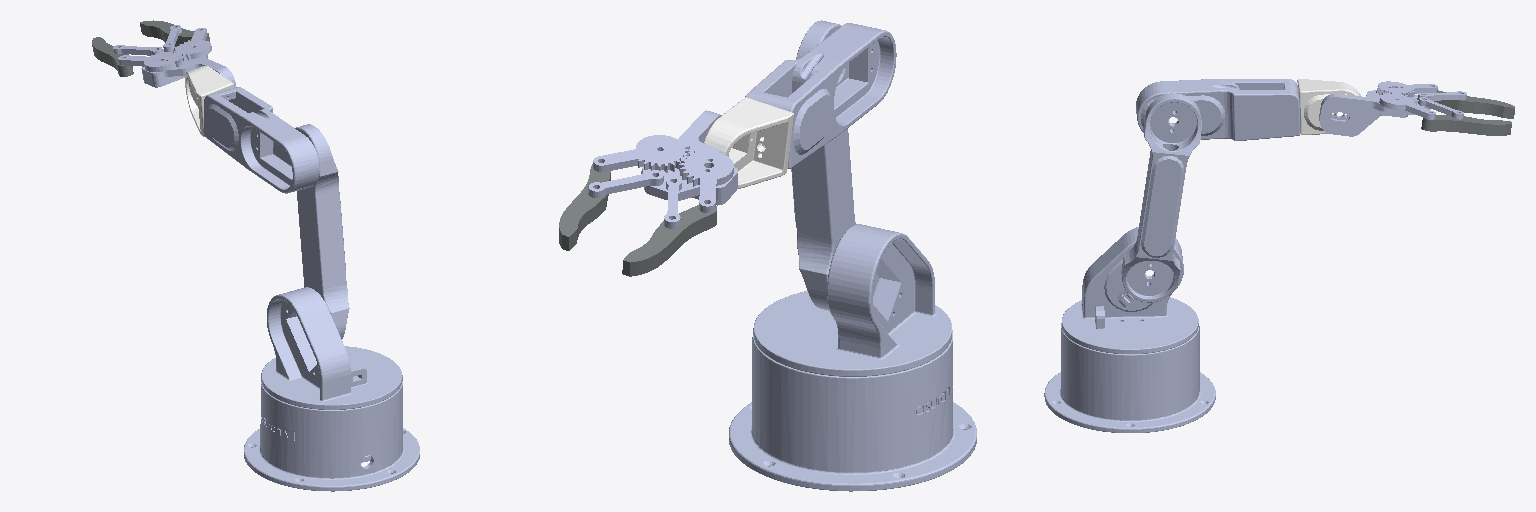
--- What the picture shows (computed from the rendered views, not written in the file) ---
Views: 3 orthographic renders of the robot side by side, from view 1: azimuth 30°, elevation 25°; view 2: azimuth 150°, elevation 25°; view 3: azimuth 270°, elevation 25°.
Robot: manipulator_mobile_bringup — 17 links, 16 joints (7 revolute, 8 continuous, 1 fixed); root link base_link; default pose: every joint at zero.
Visible links, largest first — view 1: arm_base_link, link_1, link_3, link_2, link_4, gripper_base_link, left_gear_link, right_gear_link, right_finger_link, left_finger_link; view 2: arm_base_link, link_1, link_3, link_2, link_4, left_finger_link, right_gear_link, gripper_base_link, left_gear_link, right_finger_link, right_link, left_link; view 3: arm_base_link, link_2, link_1, link_3, gripper_base_link, link_4, right_finger_link, left_finger_link, right_gear_link, left_gear_link.
Boxes of the visible links, x1=… form: arm_base_link: x1=244, y1=381, x2=419, y2=491; link_1: x1=261, y1=287, x2=402, y2=409; link_3: x1=204, y1=87, x2=319, y2=193; link_2: x1=295, y1=124, x2=349, y2=338; link_4: x1=185, y1=66, x2=233, y2=136; gripper_base_link: x1=141, y1=47, x2=235, y2=87; left_gear_link: x1=118, y1=52, x2=182, y2=71; right_gear_link: x1=173, y1=28, x2=211, y2=60; right_finger_link: x1=140, y1=20, x2=209, y2=46; left_finger_link: x1=92, y1=37, x2=133, y2=76; arm_base_link: x1=729, y1=330, x2=976, y2=491; link_1: x1=753, y1=224, x2=951, y2=376; link_3: x1=745, y1=23, x2=896, y2=168; link_2: x1=791, y1=20, x2=855, y2=310; link_4: x1=703, y1=97, x2=793, y2=188; left_finger_link: x1=622, y1=205, x2=716, y2=276; right_gear_link: x1=593, y1=135, x2=689, y2=172; gripper_base_link: x1=641, y1=110, x2=737, y2=205; left_gear_link: x1=679, y1=148, x2=733, y2=212; right_finger_link: x1=559, y1=164, x2=610, y2=250; right_link: x1=588, y1=170, x2=663, y2=197; left_link: x1=664, y1=176, x2=681, y2=228; arm_base_link: x1=1044, y1=323, x2=1215, y2=432; link_2: x1=1117, y1=93, x2=1201, y2=306; link_1: x1=1062, y1=227, x2=1198, y2=353; link_3: x1=1136, y1=79, x2=1299, y2=140; gripper_base_link: x1=1319, y1=90, x2=1429, y2=136; link_4: x1=1297, y1=79, x2=1361, y2=134; right_finger_link: x1=1421, y1=115, x2=1511, y2=135; left_finger_link: x1=1434, y1=90, x2=1514, y2=118; right_gear_link: x1=1379, y1=92, x2=1435, y2=119; left_gear_link: x1=1376, y1=81, x2=1437, y2=96.
Size in the robot's own frame: 0.1213 by 0.3331 by 0.2354 metres.
Meshes: 17 distinct files referenced, 12 mesh visuals loaded (12 binary STL); not drawn: 5 (reference not matched to a file when rendering).

robot.urdf — manipulator_mobile_bringup:
<?xml version="1.0" encoding="utf-8"?>
<!-- This URDF was automatically created by SolidWorks to URDF Exporter! Originally created by Stephen Brawner ([email redacted]) 
     Commit Version: 1.6.0-4-g7f85cfe  Build Version: 1.6.7995.38578
     For more information, please see http://wiki.ros.org/sw_urdf_exporter -->
<robot
  name="manipulator_mobile_bringup">
  <link
    name="base_link">
    <inertial>
      <origin
        xyz="0.010937 0.08215 -0.053701"
        rpy="0 0 0" />
      <mass
        value="0.98856" />
      <inertia
        ixx="0.0037178"
        ixy="-1.8329E-07"
        ixz="8.2161E-07"
        iyy="0.0054305"
        iyz="2.2764E-06"
        izz="0.0018727" />
    </inertial>
    <visual>
      <origin
        xyz="0 0 0"
        rpy="0 0 0" />
      <geometry>
        <mesh
          filename="package://mobile_manipulator_bringup/meshes/base_link.STL" />
      </geometry>
      <material
        name="">
        <color
          rgba="0.75294 0.75294 0.75294 1" />
      </material>
    </visual>
    <collision>
      <origin
        xyz="0 0 0"
        rpy="0 0 0" />
      <geometry>
        <mesh
          filename="package://mobile_manipulator_bringup/meshes/base_link.STL" />
      </geometry>
    </collision>
  </link>
  <link
    name="front_right_link">
    <inertial>
      <origin
        xyz="1.6167E-05 0.0002524 0.01609"
        rpy="0 0 0" />
      <mass
        value="0.10753" />
      <inertia
        ixx="6.0298E-05"
        ixy="2.1258E-10"
        ixz="-7.2908E-11"
        iyy="6.0303E-05"
        iyz="8.3565E-07"
        izz="0.00010816" />
    </inertial>
    <visual>
      <origin
        xyz="0 0 0"
        rpy="0 0 0" />
      <geometry>
        <mesh
          filename="package://mobile_manipulator_bringup/meshes/front_right_link.STL" />
      </geometry>
      <material
        name="">
        <color
          rgba="0.75294 0.75294 0.75294 1" />
      </material>
    </visual>
    <collision>
      <origin
        xyz="0 0 0"
        rpy="0 0 0" />
      <geometry>
        <mesh
          filename="package://mobile_manipulator_bringup/meshes/front_right_link.STL" />
      </geometry>
    </collision>
  </link>
  <joint
    name="front_right_joint"
    type="continuous">
    <origin
      xyz="0.139571380499661 0.149302895205618 0.0161064867963429"
      rpy="1.58824961931488 0 1.5707963267949" />
    <parent
      link="base_link" />
    <child
      link="front_right_link" />
    <axis
      xyz="0 0.017452406437321 0.99984769515639" />
    <limit
      effort="10"
      velocity="10" />
    <dynamics
      damping="0.1"
      friction="0.1" />
  </joint>
  <link
    name="front_left_link">
    <inertial>
      <origin
        xyz="1.6167E-05 0.00030928 -0.016089"
        rpy="0 0 0" />
      <mass
        value="0.10753" />
      <inertia
        ixx="6.0298E-05"
        ixy="-2.15E-10"
        ixz="6.5444E-11"
        iyy="6.0303E-05"
        iyz="-8.3565E-07"
        izz="0.00010816" />
    </inertial>
    <visual>
      <origin
        xyz="0 0 0"
        rpy="0 0 0" />
      <geometry>
        <mesh
          filename="package://mobile_manipulator_bringup/meshes/front_left_link.STL" />
      </geometry>
      <material
        name="">
        <color
          rgba="0.75294 0.75294 0.75294 1" />
      </material>
    </visual>
    <collision>
      <origin
        xyz="0 0 0"
        rpy="0 0 0" />
      <geometry>
        <mesh
          filename="package://mobile_manipulator_bringup/meshes/front_left_link.STL" />
      </geometry>
    </collision>
  </link>
  <joint
    name="front_left_joint"
    type="continuous">
    <origin
      xyz="-0.117093473270303 0.149302895064799 0.0161064867963391"
      rpy="-1.58824961931486 0 -1.5707963267949" />
    <parent
      link="base_link" />
    <child
      link="front_left_link" />
    <axis
      xyz="0 0.0174524064372968 -0.999847695156391" />
    <limit
      effort="10"
      velocity="10" />
    <dynamics
      damping="0.1"
      friction="0.1" />
  </joint>
  <link
    name="back_right_link">
    <inertial>
      <origin
        xyz="1.6167E-05 0.0002524 0.01609"
        rpy="0 0 0" />
      <mass
        value="0.10753" />
      <inertia
        ixx="6.0298E-05"
        ixy="2.1258E-10"
        ixz="-7.2908E-11"
        iyy="6.0303E-05"
        iyz="8.3565E-07"
        izz="0.00010816" />
    </inertial>
    <visual>
      <origin
        xyz="0 0 0"
        rpy="0 0 0" />
      <geometry>
        <mesh
          filename="package://mobile_manipulator_bringup/meshes/back_right_link.STL" />
      </geometry>
      <material
        name="">
        <color
          rgba="0.75294 0.75294 0.75294 1" />
      </material>
    </visual>
    <collision>
      <origin
        xyz="0 0 0"
        rpy="0 0 0" />
      <geometry>
        <mesh
          filename="package://mobile_manipulator_bringup/meshes/back_right_link.STL" />
      </geometry>
    </collision>
  </link>
  <joint
    name="back_right_joint"
    type="continuous">
    <origin
      xyz="0.139571380499664 -0.0356971047943816 0.0161064867963398"
      rpy="1.58824961931488 0 1.5707963267949" />
    <parent
      link="base_link" />
    <child
      link="back_right_link" />
    <axis
      xyz="0 0.0174524064373385 0.99984769515639" />
    <limit
      effort="10"
      velocity="10" />
    <dynamics
      damping="0.1"
      friction="0.1" />
  </joint>
  <link
    name="back_left_link">
    <inertial>
      <origin
        xyz="1.6167E-05 0.00030928 -0.016089"
        rpy="0 0 0" />
      <mass
        value="0.10753" />
      <inertia
        ixx="6.0298E-05"
        ixy="-2.15E-10"
        ixz="6.5444E-11"
        iyy="6.0303E-05"
        iyz="-8.3565E-07"
        izz="0.00010816" />
    </inertial>
    <visual>
      <origin
        xyz="0 0 0"
        rpy="0 0 0" />
      <geometry>
        <mesh
          filename="package://mobile_manipulator_bringup/meshes/back_left_link.STL" />
      </geometry>
      <material
        name="">
        <color
          rgba="0.75294 0.75294 0.75294 1" />
      </material>
    </visual>
    <collision>
      <origin
        xyz="0 0 0"
        rpy="0 0 0" />
      <geometry>
        <mesh
          filename="package://mobile_manipulator_bringup/meshes/back_left_link.STL" />
      </geometry>
    </collision>
  </link>
  <joint
    name="back_left_joint"
    type="continuous">
    <origin
      xyz="-0.117093473270303 -0.0356971049352009 0.0161064867963398"
      rpy="-1.58824961931486 0 -1.5707963267949" />
    <parent
      link="base_link" />
    <child
      link="back_left_link" />
    <axis
      xyz="0 0.0174524064372968 -0.999847695156391" />
    <limit
      effort="10"
      velocity="10" />
    <dynamics
      damping="0.1"
      friction="0.1" />
  </joint>
  <link
    name="arm_base_link">
    <inertial>
      <origin
        xyz="-0.0011337 -0.0001156 -0.021927"
        rpy="0 0 0" />
      <mass
        value="0.093638" />
      <inertia
        ixx="0.00012547"
        ixy="2.5159E-08"
        ixz="-1.5661E-06"
        iyy="0.00013089"
        iyz="-1.4418E-07"
        izz="0.00020147" />
    </inertial>
    <visual>
      <origin
        xyz="0 0 0"
        rpy="0 0 0" />
      <geometry>
        <mesh
          filename="package://mobile_manipulator_bringup/meshes/arm_base_link.STL" />
      </geometry>
      <material
        name="">
        <color
          rgba="0.79216 0.81961 0.93333 1" />
      </material>
    </visual>
    <collision>
      <origin
        xyz="0 0 0"
        rpy="0 0 0" />
      <geometry>
        <mesh
          filename="package://mobile_manipulator_bringup/meshes/arm_base_link.STL" />
      </geometry>
    </collision>
  </link>
  <joint
    name="arm_base_joint"
    type="fixed">
    <origin
      xyz="0.008721929418942 0.132635307732567 0.127668652249162"
      rpy="-3.14159265358978 0 -1.5707963267949" />
    <parent
      link="base_link" />
    <child
      link="arm_base_link" />
    <axis
      xyz="0 0 0" />
    <limit
      effort="10"
      velocity="10" />
    <dynamics
      damping="0.1"
      friction="0.1" />
  </joint>
  <link
    name="link_1">
    <inertial>
      <origin
        xyz="0.002243 0.0075762 0.018765"
        rpy="0 0 0" />
      <mass
        value="0.072312" />
      <inertia
        ixx="4.9568E-05"
        ixy="-1.5508E-06"
        ixz="-6.3994E-06"
        iyy="6.2445E-05"
        iyz="-6.7489E-06"
        izz="5.6938E-05" />
    </inertial>
    <visual>
      <origin
        xyz="0 0 0"
        rpy="0 0 0" />
      <geometry>
        <mesh
          filename="package://mobile_manipulator_bringup/meshes/link_1.STL" />
      </geometry>
      <material
        name="">
        <color
          rgba="0.79216 0.81961 0.93333 1" />
      </material>
    </visual>
    <collision>
      <origin
        xyz="0 0 0"
        rpy="0 0 0" />
      <geometry>
        <mesh
          filename="package://mobile_manipulator_bringup/meshes/link_1.STL" />
      </geometry>
    </collision>
  </link>
  <joint
    name="joint_1"
    type="continuous">
    <origin
      xyz="-0.000766397209457176 0 -0.0554378345472065"
      rpy="3.14159265358979 0 3.08786207777782" />
    <parent
      link="arm_base_link" />
    <child
      link="link_1" />
    <axis
      xyz="0 0 1" />
    <limit
      lower="0"
      upper="2"
      effort="5"
      velocity="0" />
  </joint>
  <link
    name="link_2">
    <inertial>
      <origin
        xyz="-0.00012933 -0.0043331 0.059293"
        rpy="0 0 0" />
      <mass
        value="0.056531" />
      <inertia
        ixx="9.4195E-05"
        ixy="-2.9887E-10"
        ixz="-1.4758E-09"
        iyy="9.7021E-05"
        iyz="-2.8902E-10"
        izz="7.2804E-06" />
    </inertial>
    <visual>
      <origin
        xyz="0 0 0"
        rpy="0 0 0" />
      <geometry>
        <mesh
          filename="package://mobile_manipulator_bringup/meshes/link_2.STL" />
      </geometry>
      <material
        name="">
        <color
          rgba="0.79216 0.81961 0.93333 1" />
      </material>
    </visual>
    <collision>
      <origin
        xyz="0 0 0"
        rpy="0 0 0" />
      <geometry>
        <mesh
          filename="package://mobile_manipulator_bringup/meshes/link_2.STL" />
      </geometry>
    </collision>
  </link>
  <joint
    name="joint_2"
    type="continuous">
    <origin
      xyz="0.0139185063019795 0 0.0402764801759031"
      rpy="0 0.138936837776739 0" />
    <parent
      link="link_1" />
    <child
      link="link_2" />
    <axis
      xyz="0 1 0" />
    <limit
      upper="2"
      effort="5"
      velocity="0" />
  </joint>
  <link
    name="link_3">
    <inertial>
      <origin
        xyz="0.03808 0.013781 -0.00091997"
        rpy="0 0 0" />
      <mass
        value="0.05696" />
      <inertia
        ixx="1.1086E-05"
        ixy="-9.9973E-07"
        ixz="1.4846E-06"
        iyy="6.7149E-05"
        iyz="5.5765E-08"
        izz="6.3613E-05" />
    </inertial>
    <visual>
      <origin
        xyz="0 0 0"
        rpy="0 0 0" />
      <geometry>
        <mesh
          filename="package://mobile_manipulator_bringup/meshes/link_3.STL" />
      </geometry>
      <material
        name="">
        <color
          rgba="0.79216 0.81961 0.93333 1" />
      </material>
    </visual>
    <collision>
      <origin
        xyz="0 0 0"
        rpy="0 0 0" />
      <geometry>
        <mesh
          filename="package://mobile_manipulator_bringup/meshes/link_3.STL" />
      </geometry>
    </collision>
  </link>
  <joint
    name="joint_3"
    type="continuous">
    <origin
      xyz="0 0 0.120000000000002"
      rpy="-0.00838511430032749 -0.188216620663566 -0.00131305365388134" />
    <parent
      link="link_2" />
    <child
      link="link_3" />
    <axis
      xyz="0.00128986407342656 -0.999961923064159 -0.00863068204148897" />
    <limit
      upper="2"
      effort="5"
      velocity="0" />
  </joint>
  <link
    name="link_4">
    <inertial>
      <origin
        xyz="0.020256 -0.0057436 0.0049043"
        rpy="0 0 0" />
      <mass
        value="0.018176" />
      <inertia
        ixx="2.8956E-06"
        ixy="6.016E-07"
        ixz="1.9471E-08"
        iyy="5.3577E-06"
        iyz="-1.8766E-08"
        izz="4.262E-06" />
    </inertial>
    <visual>
      <origin
        xyz="0 0 0"
        rpy="0 0 0" />
      <geometry>
        <mesh
          filename="package://mobile_manipulator_bringup/meshes/link_4.STL" />
      </geometry>
      <material
        name="">
        <color
          rgba="1 1 1 1" />
      </material>
    </visual>
    <collision>
      <origin
        xyz="0 0 0"
        rpy="0 0 0" />
      <geometry>
        <mesh
          filename="package://mobile_manipulator_bringup/meshes/link_4.STL" />
      </geometry>
    </collision>
  </link>
  <joint
    name="joint_4"
    type="continuous">
    <origin
      xyz="0.0876109660514479 0.0136270386972644 -0.00747960356766325"
      rpy="-0.0931433145016149 0.0170830098656705 0.0021229764586867" />
    <parent
      link="link_3" />
    <child
      link="link_4" />
    <axis
      xyz="0.999958498512701 0.000241202700431577 -0.00910730879467869" />
    <limit
      upper="2"
      effort="5"
      velocity="0" />
  </joint>
  <link
    name="gripper_base_link">
    <inertial>
      <origin
        xyz="0.023551 -0.014074 0.0056942"
        rpy="0 0 0" />
      <mass
        value="0.015721" />
      <inertia
        ixx="2.5605E-06"
        ixy="-1.4166E-06"
        ixz="-1.3765E-06"
        iyy="7.2536E-06"
        iyz="-3.5787E-07"
        izz="8.1096E-06" />
    </inertial>
    <visual>
      <origin
        xyz="0 0 0"
        rpy="0 0 0" />
      <geometry>
        <mesh
          filename="package://mobile_manipulator_bringup/meshes/gripper_base_link.STL" />
      </geometry>
      <material
        name="">
        <color
          rgba="0.79216 0.81961 0.93333 1" />
      </material>
    </visual>
    <collision>
      <origin
        xyz="0 0 0"
        rpy="0 0 0" />
      <geometry>
        <mesh
          filename="package://mobile_manipulator_bringup/meshes/gripper_base_link.STL" />
      </geometry>
    </collision>
  </link>
  <joint
    name="gripper_base_joint"
    type="revolute">
    <origin
      xyz="0.029997 4.7879E-05 0.0047268"
      rpy="-0.016991 0.18173 -0.0011785" />
    <parent
      link="link_4" />
    <child
      link="gripper_base_link" />
    <axis
      xyz="0 0.99996 0.0087265" />
    <limit
      lower="0"
      upper="2"
      effort="5"
      velocity="0" />
  </joint>
  <link
    name="right_gear_link">
    <inertial>
      <origin
        xyz="0.0055788 0.00060197 0.0017384"
        rpy="0 0 0" />
      <mass
        value="0.0026416" />
      <inertia
        ixx="9.0046E-08"
        ixy="9.2574E-09"
        ixz="4.7431E-21"
        iyy="3.6424E-07"
        iyz="-3.7485E-20"
        izz="4.4724E-07" />
    </inertial>
    <visual>
      <origin
        xyz="0 0 0"
        rpy="0 0 0" />
      <geometry>
        <mesh
          filename="package://mobile_manipulator_bringup/meshes/right_gear_link.STL" />
      </geometry>
      <material
        name="">
        <color
          rgba="0.79216 0.81961 0.93333 1" />
      </material>
    </visual>
    <collision>
      <origin
        xyz="0 0 0"
        rpy="0 0 0" />
      <geometry>
        <mesh
          filename="package://mobile_manipulator_bringup/meshes/right_gear_link.STL" />
      </geometry>
    </collision>
  </link>
  <joint
    name="right_gear_joint"
    type="revolute">
    <origin
      xyz="0.038 -0.025124 0.014043"
      rpy="0.0065473 0.0057695 -0.72232" />
    <parent
      link="gripper_base_link" />
    <child
      link="right_gear_link" />
    <axis
      xyz="0 0 1" />
    <limit
      lower="0"
      upper="2"
      effort="5"
      velocity="0" />
    <mimic
      joint="left_gear_joint"
      multiplier="-1"
      offset="0" />
  </joint>
  <link
    name="right_finger_link">
    <inertial>
      <origin
        xyz="0.026893 0.0045132 -0.0042469"
        rpy="0 0 0" />
      <mass
        value="0.0053975" />
      <inertia
        ixx="1.8308E-07"
        ixy="-3.7341E-07"
        ixz="-6.2523E-12"
        iyy="1.5958E-06"
        iyz="1.1723E-11"
        izz="1.7139E-06" />
    </inertial>
    <visual>
      <origin
        xyz="0 0 0"
        rpy="0 0 0" />
      <geometry>
        <mesh
          filename="package://mobile_manipulator_bringup/meshes/right_finger_link.STL" />
      </geometry>
      <material
        name="">
        <color
          rgba="0.52941 0.54902 0.54902 1" />
      </material>
    </visual>
    <collision>
      <origin
        xyz="0 0 0"
        rpy="0 0 0" />
      <geometry>
        <mesh
          filename="package://mobile_manipulator_bringup/meshes/right_finger_link.STL" />
      </geometry>
    </collision>
  </link>
  <joint
    name="right_finger_joint"
    type="revolute">
    <origin
      xyz="0.030749 0 -0.0087585"
      rpy="-3.1416 0 1.1008" />
    <parent
      link="right_gear_link" />
    <child
      link="right_finger_link" />
    <axis
      xyz="0 0 1" />
    <limit
      lower="0"
      upper="2"
      effort="5"
      velocity="0" />
    <mimic
      joint="left_gear_joint"
      multiplier="-1"
      offset="0" />
  </joint>
  <link
    name="left_gear_link">
    <inertial>
      <origin
        xyz="0.0056831 -0.00040658 0.00014126"
        rpy="0 0 0" />
      <mass
        value="0.0025659" />
      <inertia
        ixx="9.0729E-08"
        ixy="-1.9117E-08"
        ixz="2.1842E-19"
        iyy="3.6228E-07"
        iyz="-4.5692E-20"
        izz="4.4616E-07" />
    </inertial>
    <visual>
      <origin
        xyz="0 0 0"
        rpy="0 0 0" />
      <geometry>
        <mesh
          filename="package://mobile_manipulator_bringup/meshes/left_gear_link.STL" />
      </geometry>
      <material
        name="">
        <color
          rgba="0.79216 0.81961 0.93333 1" />
      </material>
    </visual>
    <collision>
      <origin
        xyz="0 0 0"
        rpy="0 0 0" />
      <geometry>
        <mesh
          filename="package://mobile_manipulator_bringup/meshes/left_gear_link.STL" />
      </geometry>
    </collision>
  </link>
  <joint
    name="left_gear_joint"
    type="revolute">
    <origin
      xyz="0.038 0.0017615 0.015875"
      rpy="0.0079632 -0.0035696 0.42139" />
    <parent
      link="gripper_base_link" />
    <child
      link="left_gear_link" />
    <axis
      xyz="0 0 1" />
    <limit
      lower="0"
      upper="2"
      effort="5"
      velocity="0" />
  </joint>
  <link
    name="left_finger_link">
    <inertial>
      <origin
        xyz="0.026893 0.0045132 -0.0042469"
        rpy="0 0 0" />
      <mass
        value="0.0053975" />
      <inertia
        ixx="1.8308E-07"
        ixy="-3.7341E-07"
        ixz="-6.2879E-12"
        iyy="1.5958E-06"
        iyz="1.1822E-11"
        izz="1.7139E-06" />
    </inertial>
    <visual>
      <origin
        xyz="0 0 0"
        rpy="0 0 0" />
      <geometry>
        <mesh
          filename="package://mobile_manipulator_bringup/meshes/left_finger_link.STL" />
      </geometry>
      <material
        name="">
        <color
          rgba="0.52941 0.54902 0.54902 1" />
      </material>
    </visual>
    <collision>
      <origin
        xyz="0 0 0"
        rpy="0 0 0" />
      <geometry>
        <mesh
          filename="package://mobile_manipulator_bringup/meshes/left_finger_link.STL" />
      </geometry>
    </collision>
  </link>
  <joint
    name="left_finger_joint"
    type="revolute">
    <origin
      xyz="0.030729 0.0010754 -0.0018618"
      rpy="0 0 -0.82939" />
    <parent
      link="left_gear_link" />
    <child
      link="left_finger_link" />
    <axis
      xyz="0 0 1" />
    <limit
      lower="0"
      upper="2"
      effort="5"
      velocity="0" />
    <mimic
      joint="left_gear_joint"
      multiplier="1"
      offset="0" />
  </joint>
  <link
    name="right_link">
    <inertial>
      <origin
        xyz="0.0155 -4.1633E-16 0.00094259"
        rpy="0 0 0" />
      <mass
        value="0.00079876" />
      <inertia
        ixx="3.6325E-09"
        ixy="1.6885E-22"
        ixz="1.2558E-22"
        iyy="1.0292E-07"
        iyz="-6.27E-22"
        izz="1.0442E-07" />
    </inertial>
    <visual>
      <origin
        xyz="0 0 0"
        rpy="0 0 0" />
      <geometry>
        <mesh
          filename="package://mobile_manipulator_bringup/meshes/right_link.STL" />
      </geometry>
      <material
        name="">
        <color
          rgba="0.79216 0.81961 0.93333 1" />
      </material>
    </visual>
    <collision>
      <origin
        xyz="0 0 0"
        rpy="0 0 0" />
      <geometry>
        <mesh
          filename="package://mobile_manipulator_bringup/meshes/right_link.STL" />
      </geometry>
    </collision>
  </link>
  <joint
    name="right_joint"
    type="revolute">
    <origin
      xyz="0.058 -0.017131 0.014908"
      rpy="0.0066193 0.0056868 -0.70976" />
    <parent
      link="gripper_base_link" />
    <child
      link="right_link" />
    <axis
      xyz="0 0 1" />
    <limit
      lower="0"
      upper="2"
      effort="5"
      velocity="0" />
    <mimic
      joint="left_gear_joint"
      multiplier="-1"
      offset="0" />
  </joint>
  <link
    name="left_link">
    <inertial>
      <origin
        xyz="0.0155 -5.5511E-16 0.0013113"
        rpy="0 0 0" />
      <mass
        value="0.00079876" />
      <inertia
        ixx="3.6325E-09"
        ixy="-8.3545E-23"
        ixz="1.1071E-22"
        iyy="1.0292E-07"
        iyz="-6.3197E-22"
        izz="1.0442E-07" />
    </inertial>
    <visual>
      <origin
        xyz="0 0 0"
        rpy="0 0 0" />
      <geometry>
        <mesh
          filename="package://mobile_manipulator_bringup/meshes/left_link.STL" />
      </geometry>
      <material
        name="">
        <color
          rgba="0.79216 0.81961 0.93333 1" />
      </material>
    </visual>
    <collision>
      <origin
        xyz="0 0 0"
        rpy="0 0 0" />
      <geometry>
        <mesh
          filename="package://mobile_manipulator_bringup/meshes/left_link.STL" />
      </geometry>
    </collision>
  </link>
  <joint
    name="left_joint"
    type="revolute">
    <origin
      xyz="0.058 -0.0071279 0.014627"
      rpy="0.0078253 -0.0038625 0.4585" />
    <parent
      link="gripper_base_link" />
    <child
      link="left_link" />
    <axis
      xyz="0 0 1" />
    <limit
      lower="0"
      upper="2"
      effort="5"
      velocity="0" />
    <mimic
      joint="left_gear_joint"
      multiplier="1"
      offset="0" />
  </joint>

  <!-- Gazebo friction and material properties -->
  <gazebo reference="base_link">
    <mu1>0.2</mu1>
    <mu2>0.2</mu2>
    <material>Gazebo/Red</material>
  </gazebo>

  <gazebo reference="front_right_link">
    <mu1>0.2</mu1>
    <mu2>0.2</mu2>
    <material>Gazebo/Yellow</material>
  </gazebo>

  <gazebo reference="front_left_link">
    <mu1>0.2</mu1>
    <mu2>0.2</mu2>
    <material>Gazebo/Yellow</material>
  </gazebo>

  <gazebo reference="back_right_link">
    <mu1>0.2</mu1>
    <mu2>0.2</mu2>
    <material>Gazebo/Yellow</material>
  </gazebo>

  <gazebo reference="back_left_link">
    <mu1>0.2</mu1>
    <mu2>0.2</mu2>
    <material>Gazebo/Yellow</material>
  </gazebo>

  <!-- Joint State Publisher Plugin -->
  <gazebo>
    <plugin name="gazebo_ros_joint_state_publisher" filename="libgazebo_ros_joint_state_publisher.so">
      <update_rate>50</update_rate>
      <joint_name>front_left_joint</joint_name>
      <joint_name>front_right_joint</joint_name>
      <joint_name>back_left_joint</joint_name>
      <joint_name>back_right_joint</joint_name>
      <joint_name>joint_1</joint_name>
      <joint_name>joint_2</joint_name>
      <joint_name>joint_3</joint_name>
      <joint_name>joint_4</joint_name>
      <joint_name>gripper_base_joint</joint_name>
      <joint_name>left_gear_joint</joint_name>
      <joint_name>right_gear_joint</joint_name>
      <joint_name>left_finger_joint</joint_name>
      <joint_name>right_finger_joint</joint_name>
      <joint_name>left_joint</joint_name>
      <joint_name>right_joint</joint_name>
    </plugin>
  </gazebo>

  <!-- Differential Drive Plugin for 4 wheels -->
  <gazebo>
    <plugin name="differential_drive_controller" filename="libgazebo_ros_diff_drive.so">
      <!-- Number of wheel pairs -->
      <num_wheel_pairs>2</num_wheel_pairs>

      <!-- wheels0 (front wheels) -->
      <left_joint>front_left_joint</left_joint>
      <right_joint>front_right_joint</right_joint>

      <!-- wheels1 (back wheels) -->
      <left_joint>back_left_joint</left_joint>
      <right_joint>back_right_joint</right_joint>

      <!-- kinematics -->
      <wheel_separation>0.35</wheel_separation>
      <wheel_diameter>0.15</wheel_diameter>

      <!-- limits -->
      <max_wheel_torque>1000</max_wheel_torque>
      <max_wheel_acceleration>5.0</max_wheel_acceleration>

      <!-- output -->
      <publish_odom>true</publish_odom>
      <publish_odom_tf>true</publish_odom_tf>
      <publish_wheel_tf>true</publish_wheel_tf>

      <!-- odometry covariance -->
      <covariance_x>0.0001</covariance_x>
      <covariance_y>0.0001</covariance_y>
      <covariance_yaw>0.01</covariance_yaw>

      <!-- frames -->
      <odometry_frame>odom</odometry_frame>
      <robot_base_frame>base_link</robot_base_frame>

      <!-- topic names -->
      <command_topic>cmd_vel</command_topic>
      <odometry_topic>odom</odometry_topic>
    </plugin>
  </gazebo>
</robot>
